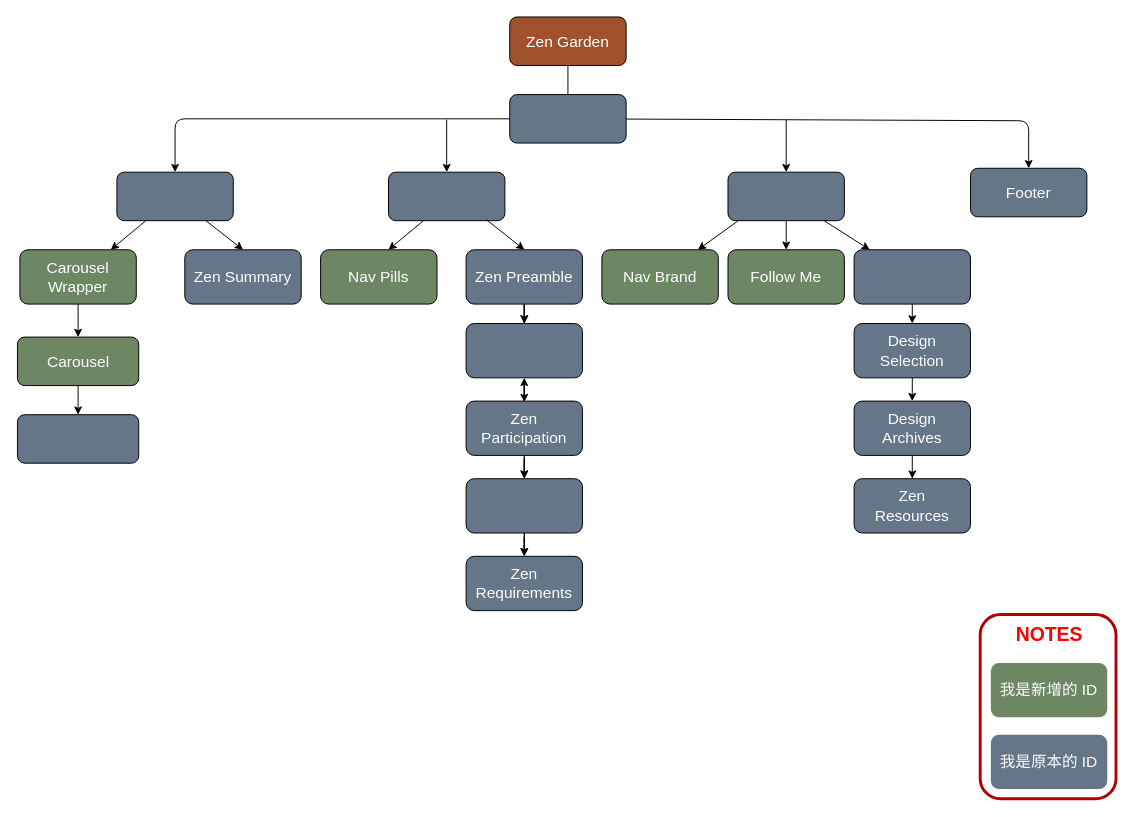
The diagram is 1134 pixels wide and 817 high, and some of its shapes have lost their labels. Each missing label, with the box of its shape:
Banner: (16, 414, 139, 463)
Page Wrapper: (509, 94, 626, 143)
Sidebar: (727, 171, 844, 221)
Wrapper: (853, 249, 970, 304)
Zen Benefits: (465, 478, 582, 533)
Zen Explanation: (465, 323, 582, 378)
Zen Intro: (116, 171, 233, 221)
Zen Supporting: (388, 171, 505, 221)
